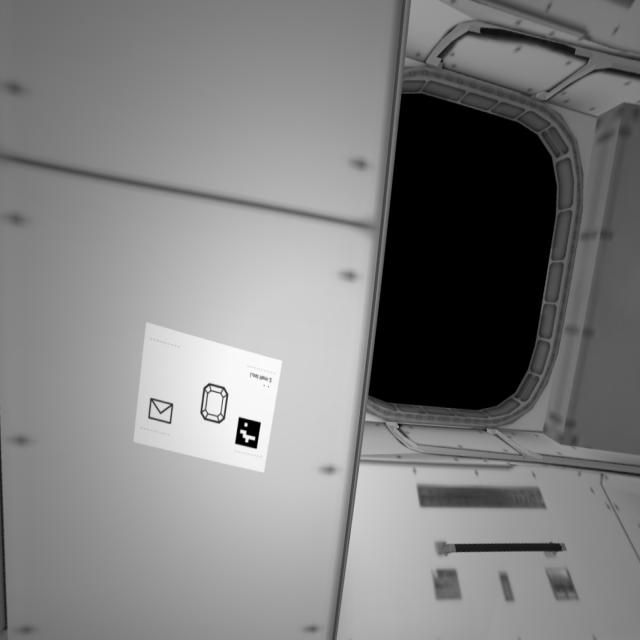emerald: (198, 380, 231, 427)
letter: (150, 396, 179, 430)
